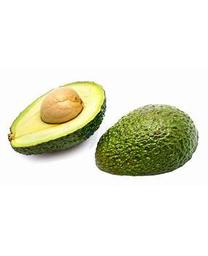avocado: (95, 103, 199, 176), (8, 80, 107, 156)
